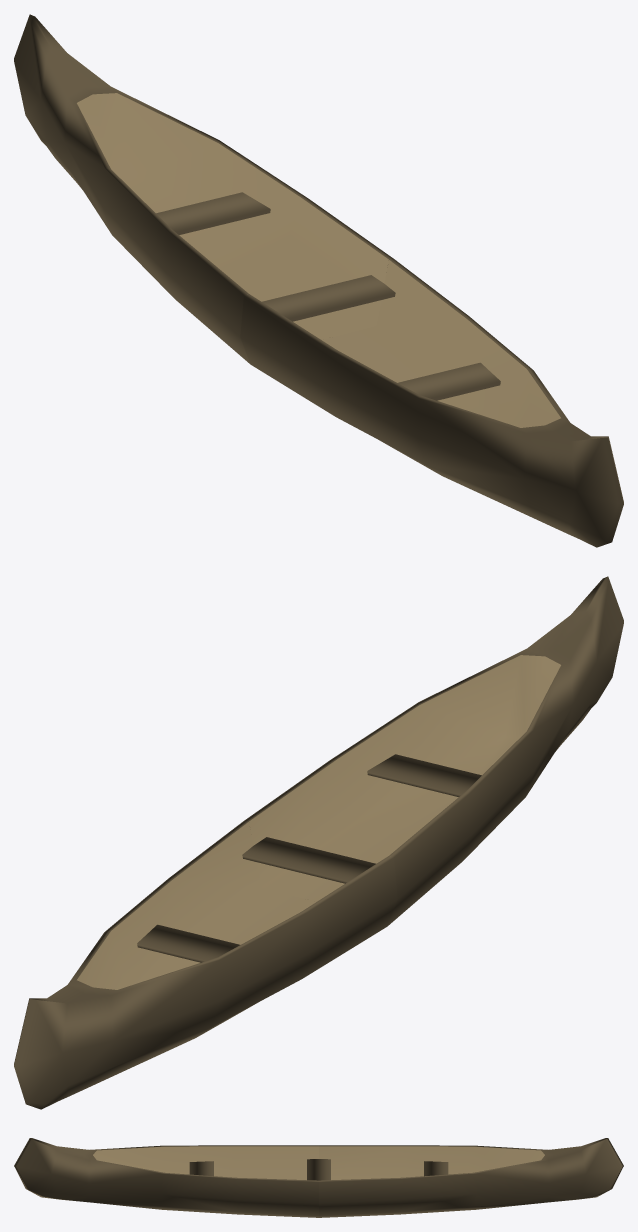
Rendered from Camp_Canoe_01.fbx.
The picture shows the model from 3 angles, top to bottom: view 1: azimuth 30°, elevation 25°; view 2: azimuth 150°, elevation 25°; view 3: azimuth 270°, elevation 25°; orthographic projection. The views are drawn at different scales.
Visible parts, largest first — view 1: Camp_Canoe_01; view 2: Camp_Canoe_01; view 3: Camp_Canoe_01.
Part boxes in pixels (<box>): Camp_Canoe_01: <box>14,14,623,547</box>; Camp_Canoe_01: <box>14,576,623,1109</box>; Camp_Canoe_01: <box>14,1138,623,1217</box>.
Size of the model in its own units: 2.16 by 1.84 by 14.45.
